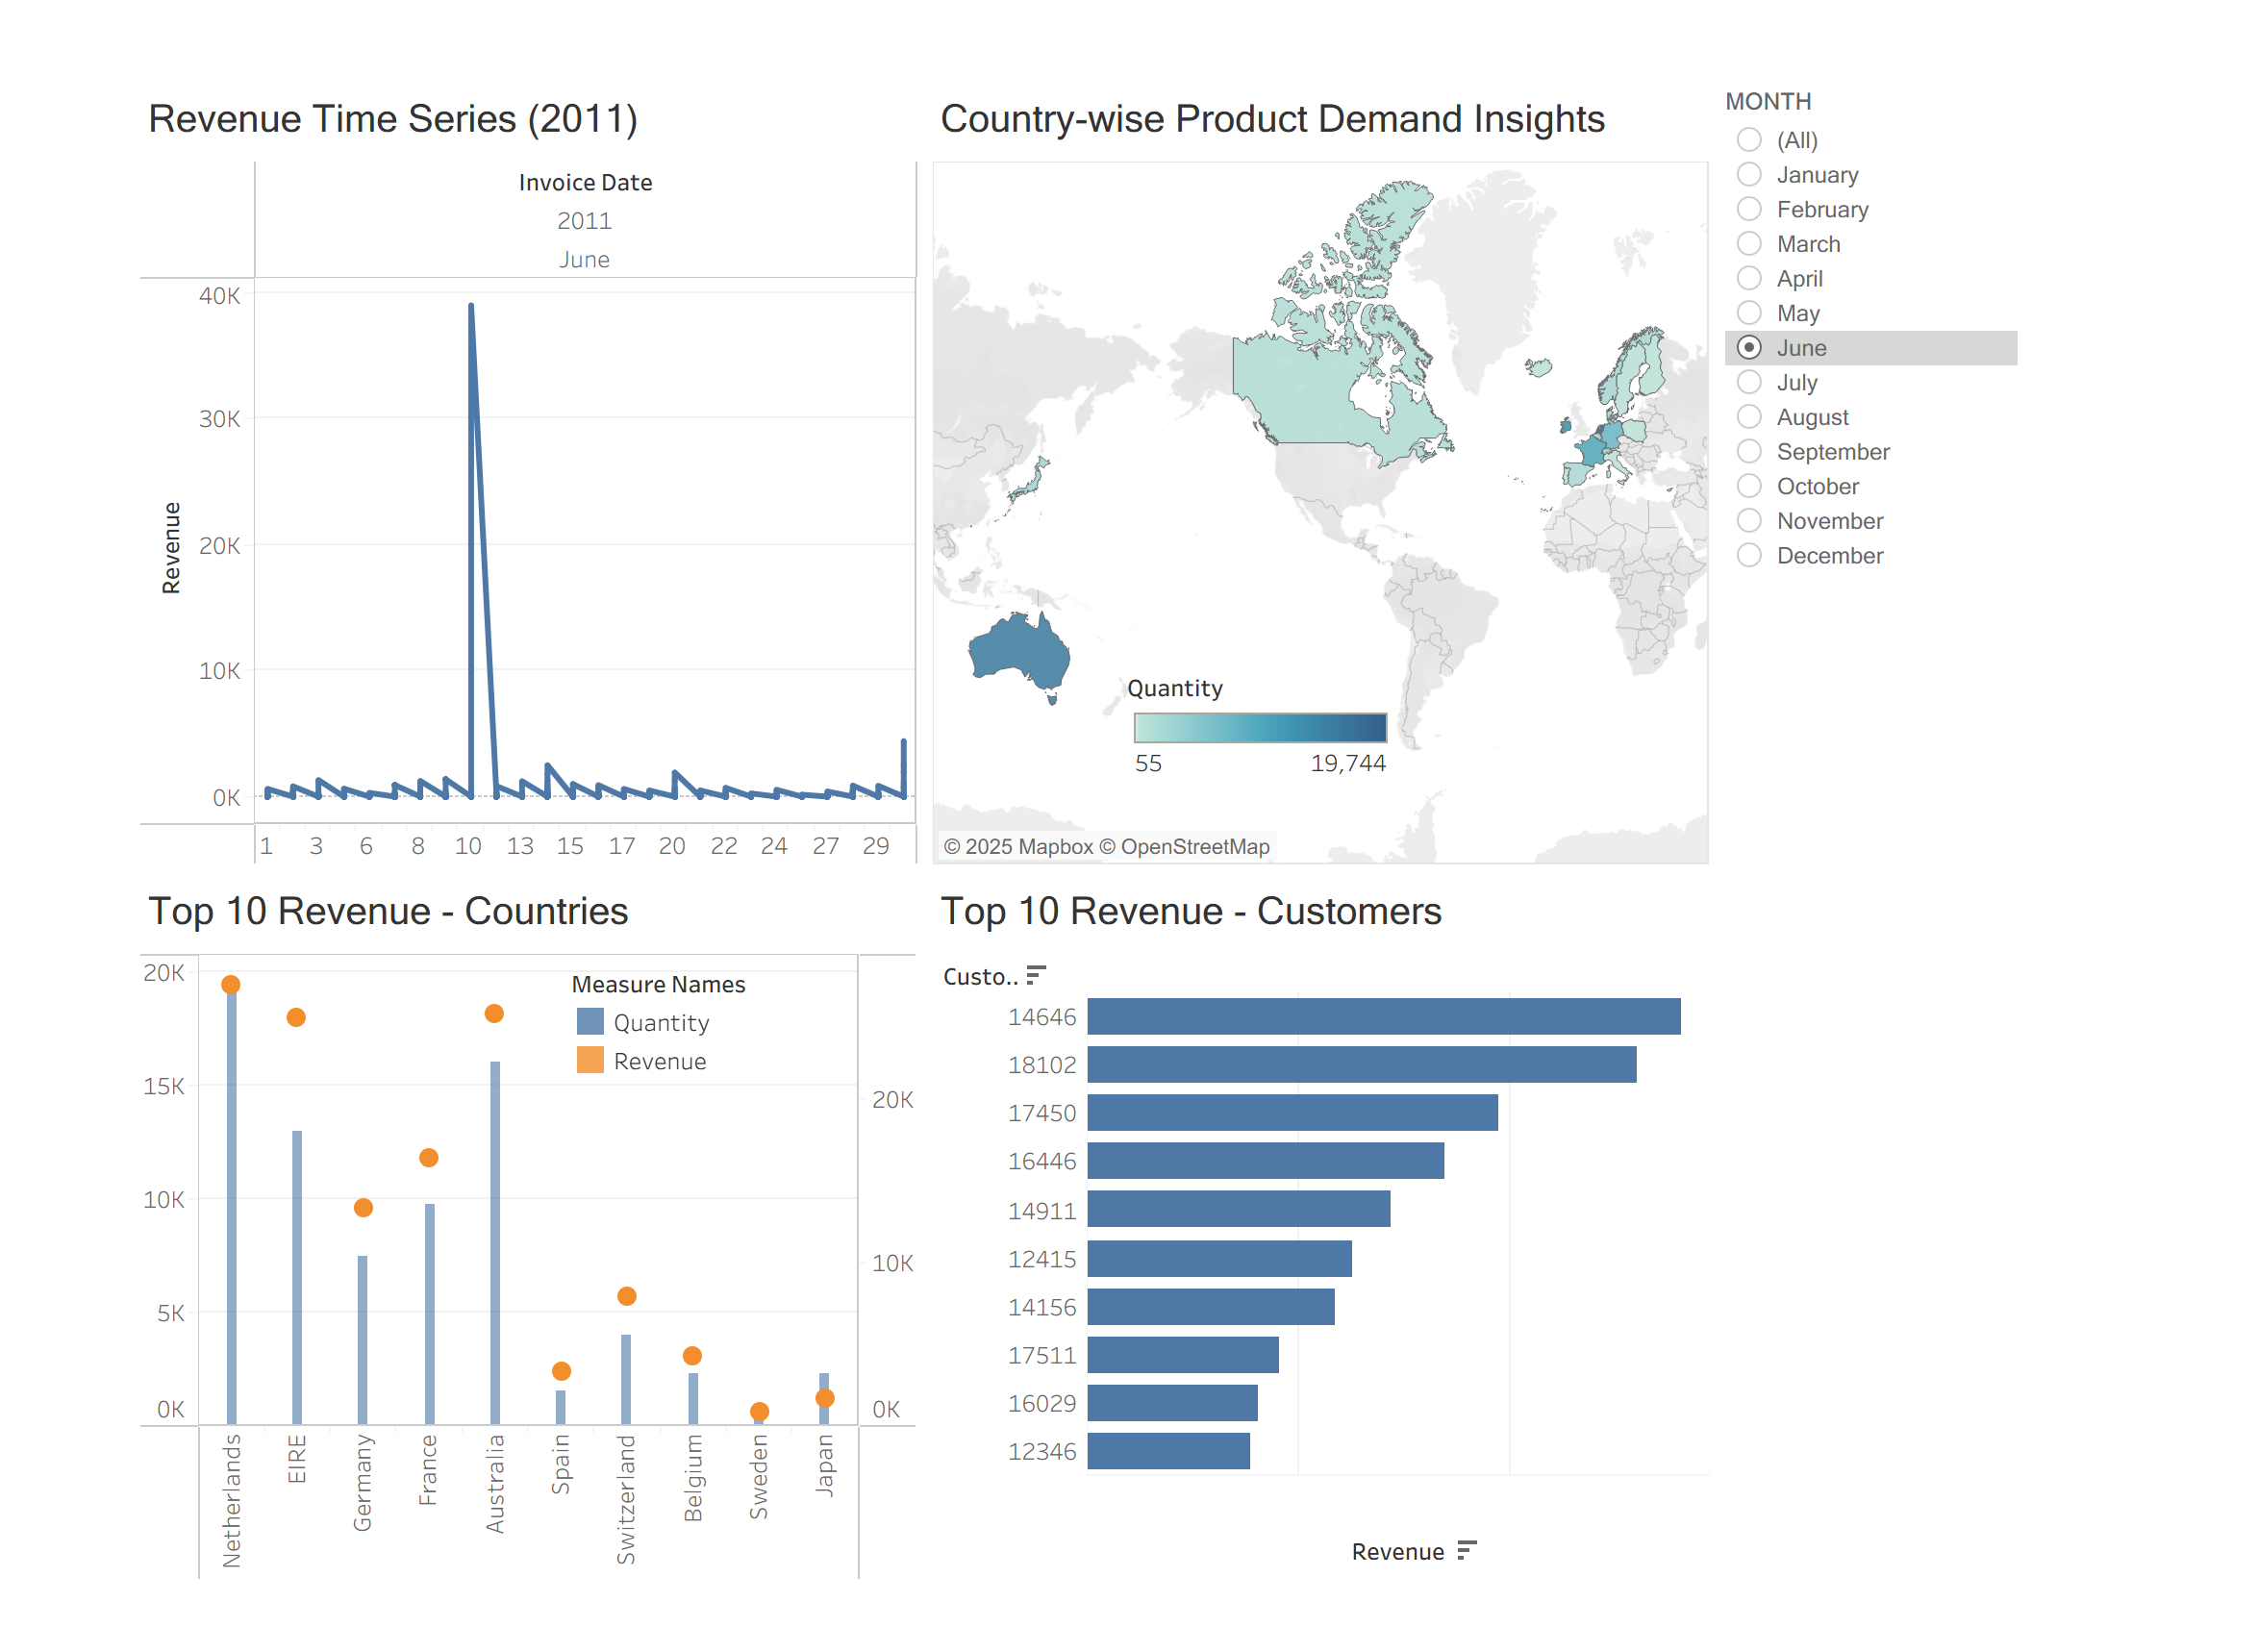

What the dashboard file says about the page in this screenshot:
{"tool":"tableau","page":{"name":"Dashboard","canvas":[1000,800],"ordinal":0},"visuals":[{"type":"worksheet","title":"1","mark":"Automatic","rows":["Calculation_1706019866200715264"],"cols":["InvoiceDate","InvoiceDate","InvoiceDate"],"box":[8,8,412,412]},{"type":"worksheet","title":"4","mark":"Automatic","box":[420,8,412,412]},{"type":"filter","title":"1","param":"[federated.13ko2mr0qc2ygr1gpt57f0w0wwnj].[mn:InvoiceDate:ok]","box":[832,8,160,263]},{"type":"legend","title":"4","param":"[federated.13ko2mr0qc2ygr1gpt57f0w0wwnj].[sum:Quantity:qk]","box":[525,315,140,54]},{"type":"worksheet","title":"2","mark":"Circle","rows":["Calculation_1706019866200715264","Quantity"],"cols":["Country"],"box":[8,420,412,372]},{"type":"worksheet","title":"3","mark":"Automatic","rows":["CustomerID"],"cols":["Calculation_1706019866200715264"],"box":[420,420,412,372]},{"type":"legend","title":"2","param":"[federated.13ko2mr0qc2ygr1gpt57f0w0wwnj].[:Measure Names]","box":[236,469,140,58]}]}

Visuals, with their boxes on the page's 1000x800 design canvas (x1, y1, x2, y2). These are canvas units, not pixel positions in the 2258x1652 screenshot, which may show the page scaled, cropped or inside an application window:
"1" worksheet: 8/8/420/420
"4" worksheet: 420/8/832/420
"1" filter: 832/8/992/271
"4" legend: 525/315/665/369
"2" worksheet (Circle marks): 8/420/420/792
"3" worksheet: 420/420/832/792
"2" legend: 236/469/376/527
